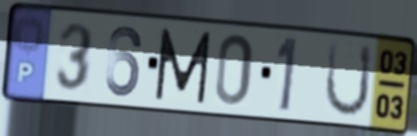0: (212, 31, 256, 110)
1: (273, 35, 300, 116)
3: (53, 21, 96, 95)
6: (104, 23, 144, 99)
M: (153, 25, 214, 106)
U: (322, 39, 375, 120)
